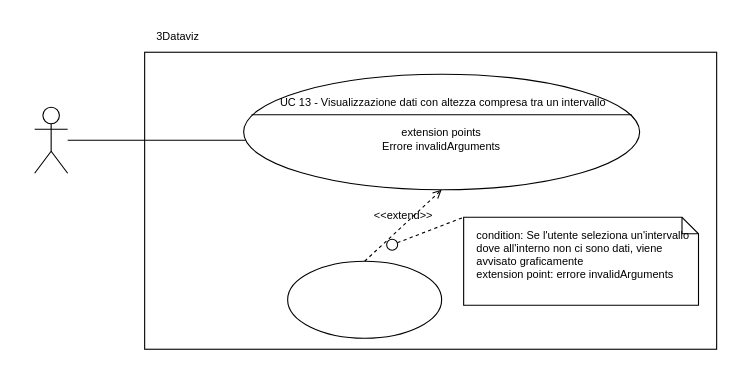
Some shapes in this 736 by 369 pixel diagram are drawn without their labels. Here are the shapes that lost their labels. From the top down, the centre of each, then its label:
the point at 51,139: Utente Finale
the point at 364,299: UC 21 - Visualizzazione errore invalidArguments
